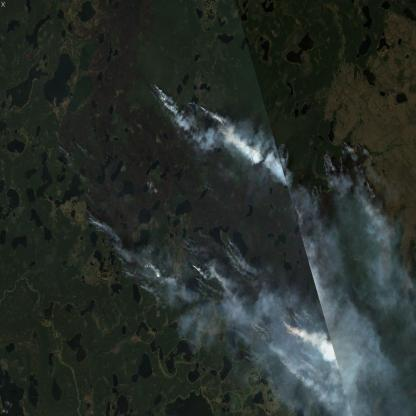fire: (138, 77, 385, 198), (184, 229, 354, 387), (123, 245, 163, 300), (78, 203, 114, 247)
